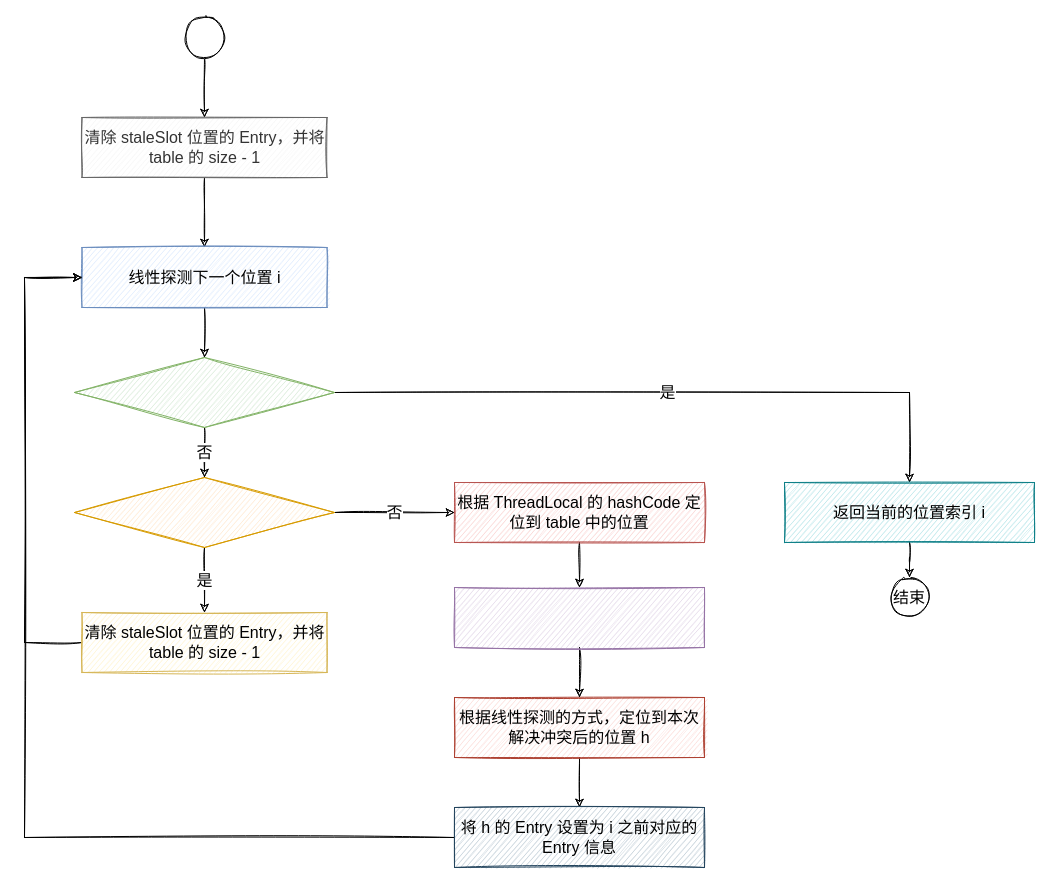
The diagram is 1052 pixels wide and 885 high, and some of its shapes have lost their labels. The centre of each missing label's shape, as x and y in pixels:
"开始" belongs at (x=204, y=37).
"当前位置是否为 null" belongs at (x=204, y=392).
"当前位置的 ThreadLocal 是否被清除" belongs at (x=204, y=512).
"清除当前位置 i 的 Entry 信息" belongs at (x=579, y=617).
